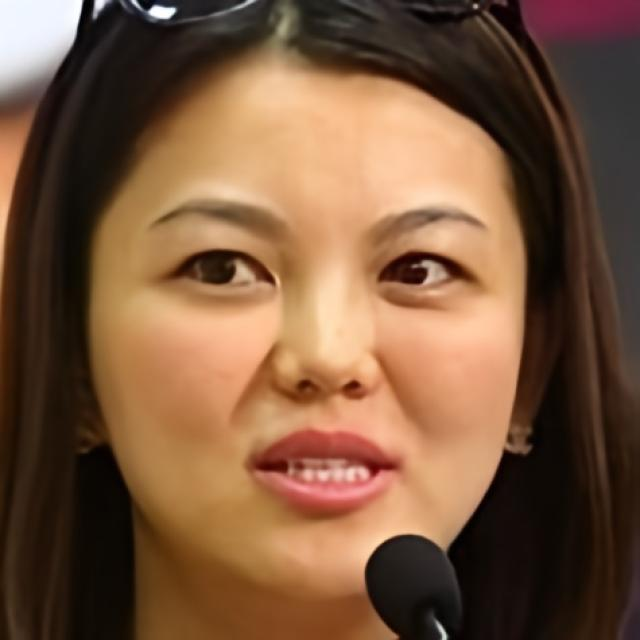disgust: (91, 40, 526, 593)
